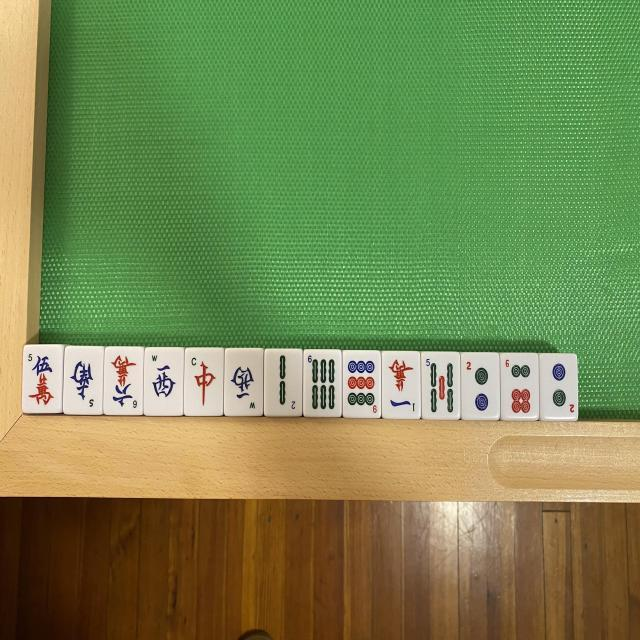hdr: (187, 350, 226, 416)
hws: (65, 346, 105, 414)
hww: (146, 351, 184, 416), (226, 351, 264, 414)
sb2: (266, 352, 304, 417)
sb5: (422, 352, 458, 418)
sb6: (304, 352, 341, 419)
sc1: (385, 355, 422, 420)
sc5: (22, 346, 59, 410)
sc6: (108, 351, 146, 416)
sd2: (464, 356, 501, 419), (542, 356, 578, 418)
sd6: (501, 354, 537, 418)
sd9: (343, 351, 381, 416)
